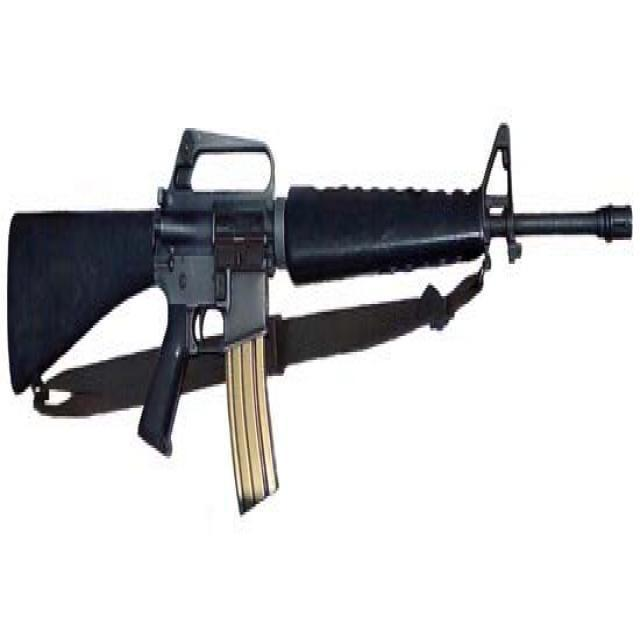rifle: (4, 105, 637, 526)
